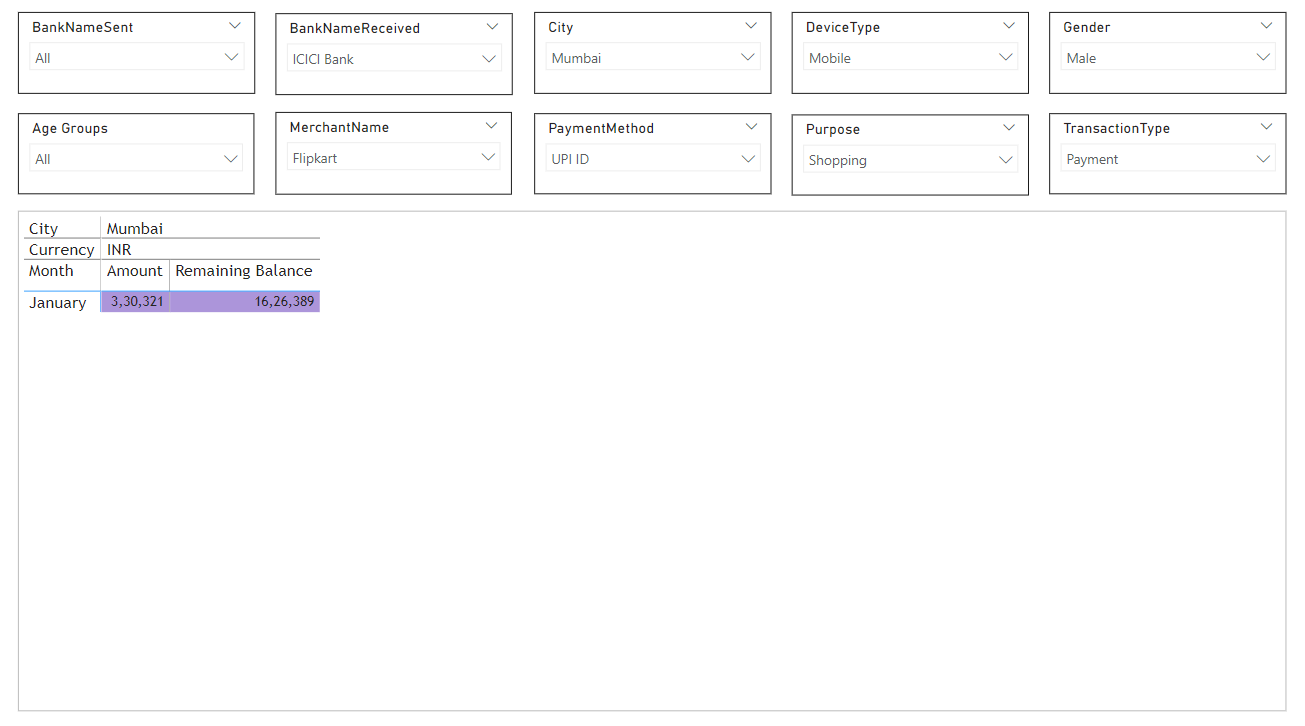

Layout of this report page (visuals, bound fields, positions):
{"tool":"powerbi","page":{"name":" Page 2","canvas":[1280,720],"ordinal":1},"visuals":[{"type":"slicer","fields":{"Values":["UPI Transactions.BankNameSent"]},"box":[20,20,232,80],"z":0},{"type":"slicer","fields":{"Values":["UPI Transactions.BankNameReceived"]},"box":[272,20.8,232,80],"z":1000},{"type":"slicer","fields":{"Values":["UPI Transactions.City"]},"box":[524.6,20,232,80],"z":2000},{"type":"slicer","fields":{"Values":["UPI Transactions.DeviceType"]},"box":[776,20,232.3,80],"z":3000},{"type":"slicer","fields":{"Values":["UPI Transactions.Gender"]},"box":[1028,20,232.3,80],"z":4000},{"type":"slicer","fields":{"Values":["UPI Transactions.Age Groups"]},"box":[19.6,118.6,231.1,79.5],"z":5000},{"type":"slicer","fields":{"Values":["UPI Transactions.MerchantName"]},"box":[271.5,117.4,231.1,80.7],"z":6000},{"type":"slicer","fields":{"Values":["UPI Transactions.PaymentMethod"]},"box":[524.6,118.6,232.3,79.5],"z":7000},{"type":"slicer","fields":{"Values":["UPI Transactions.Purpose"]},"box":[776.5,119.8,232.3,79.5],"z":8000},{"type":"slicer","fields":{"Values":["UPI Transactions.TransactionType"]},"box":[1028.4,118.6,232.3,79.5],"z":9000},{"type":"pivotTable","fields":{"Values":["Sum(UPI Transactions.Amount)","Sum(UPI Transactions.RemainingBalance)"],"Rows":["UPI Transactions.TransactionDate.Variation.Date Hierarchy.Month"],"Columns":["UPI Transactions.City","UPI Transactions.Currency"]},"box":[19.2,214.1,1240.5,489.9],"z":10000}]}

Visuals, with their boxes in screenshot pixels (x1, y1, x2, y2), scaled from the page's 1280x720 canvas onto the 1305x726 screenshot:
slicer - UPI Transactions.BankNameSent: <bbox>20, 20, 257, 101</bbox>
slicer - UPI Transactions.BankNameReceived: <bbox>277, 21, 514, 102</bbox>
slicer - UPI Transactions.City: <bbox>535, 20, 771, 101</bbox>
slicer - UPI Transactions.DeviceType: <bbox>791, 20, 1028, 101</bbox>
slicer - UPI Transactions.Gender: <bbox>1048, 20, 1285, 101</bbox>
slicer - UPI Transactions.Age Groups: <bbox>20, 120, 256, 200</bbox>
slicer - UPI Transactions.MerchantName: <bbox>277, 118, 512, 200</bbox>
slicer - UPI Transactions.PaymentMethod: <bbox>535, 120, 772, 200</bbox>
slicer - UPI Transactions.Purpose: <bbox>792, 121, 1029, 201</bbox>
slicer - UPI Transactions.TransactionType: <bbox>1048, 120, 1285, 200</bbox>
pivotTable - Sum(UPI Transactions.Amount) x Sum(UPI Transactions.RemainingBalance): <bbox>20, 216, 1284, 710</bbox>
